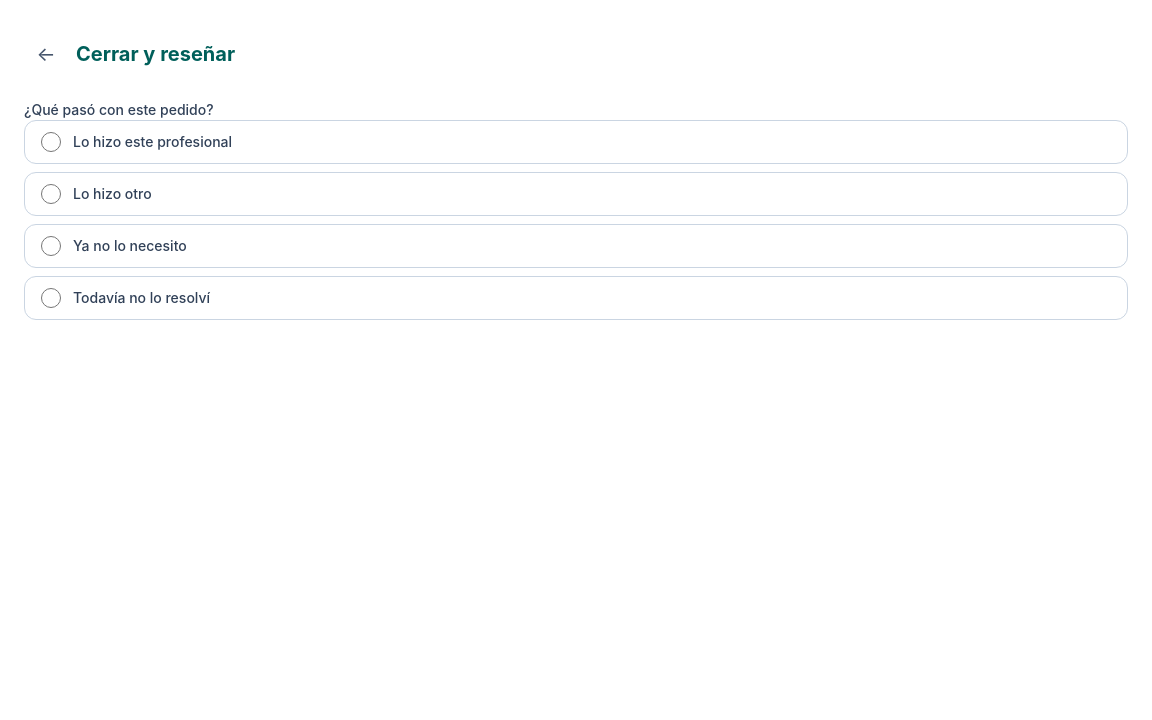
Test: CerrarPedidoPage › al elegir "lo hizo este profesional" muestra el selector de contacto y el formulario de reseña
This screenshot has width=1152, height=720.
Click the text "Lo hizo este profesional": (153, 142) x1=24 y1=120 x2=1128 y2=164
(page scrolled)
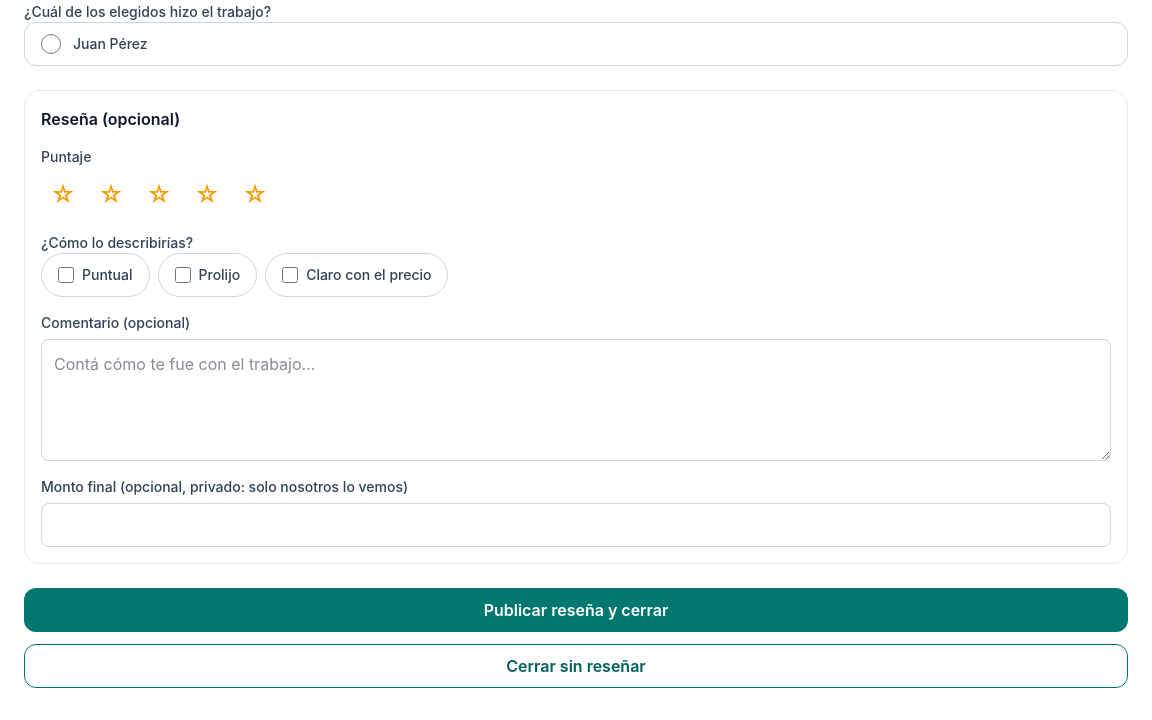
expect the text "¿Cuál de los elegidos hizo el trabajo?" is shown: met, box x1=24 y1=2 x2=271 y2=22
expect the text "Juan Pérez" is shown: met, box x1=24 y1=22 x2=1128 y2=66
expect the element named "puntaje de 1 a 5 estrellas" is shown: met, box x1=41 y1=173 x2=277 y2=217
